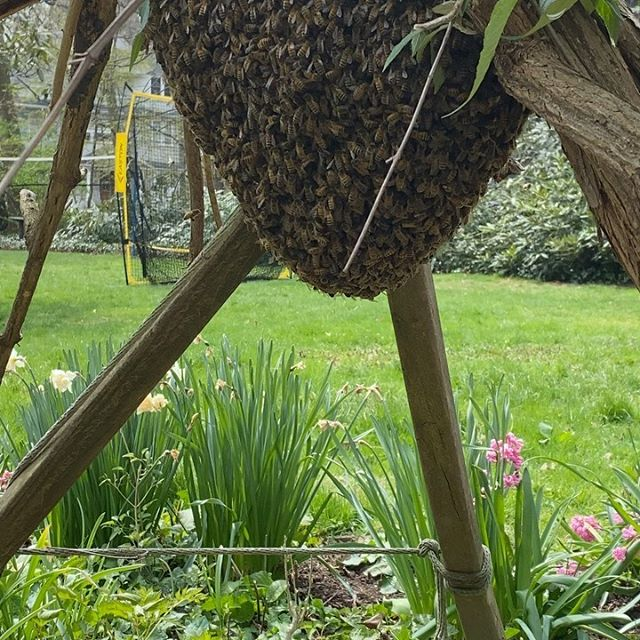grass: (37, 264, 640, 499)
vegetation: (21, 326, 638, 640)
